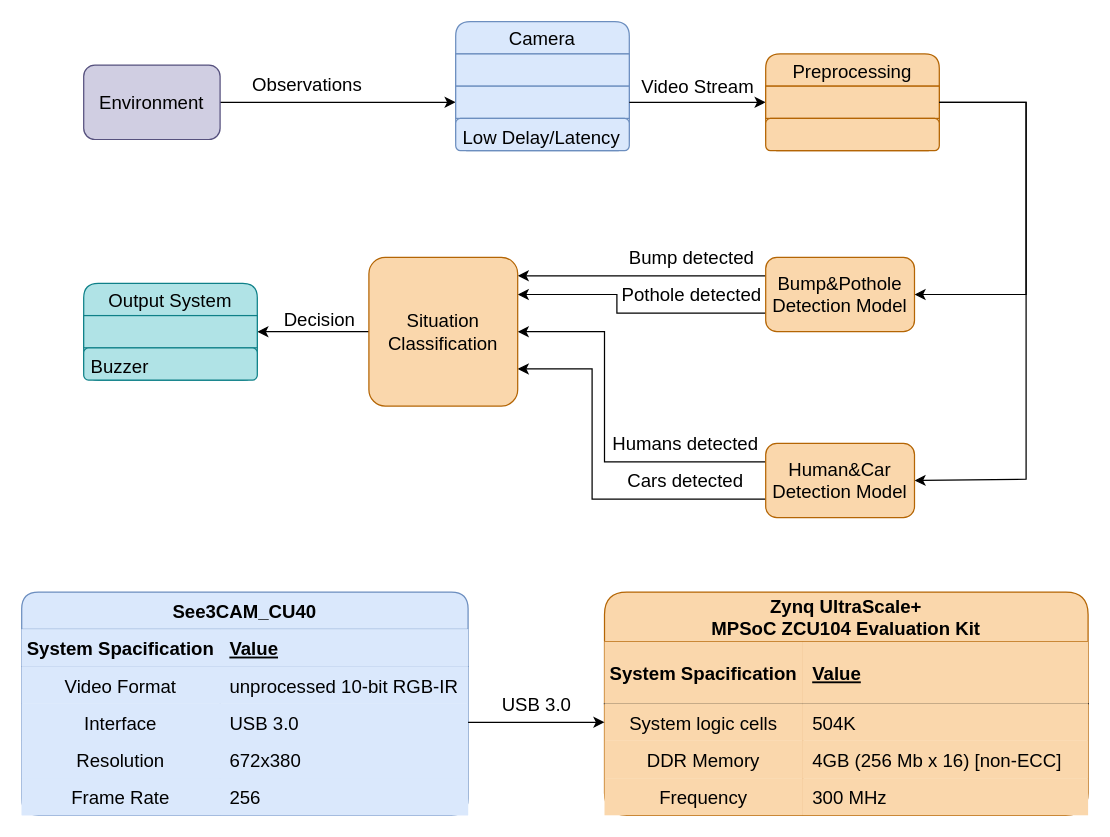
This 1110x837 diagram has some shape labels left out. The centre of each missing label's shape, as x and y in pixels:
"Capture Environment" goes at [541,69].
"High Frequency" goes at [541,101].
"LED indicator" goes at [169,331].
"Resize to 224x224" goes at [851,101].
"Standardization" goes at [851,134].
